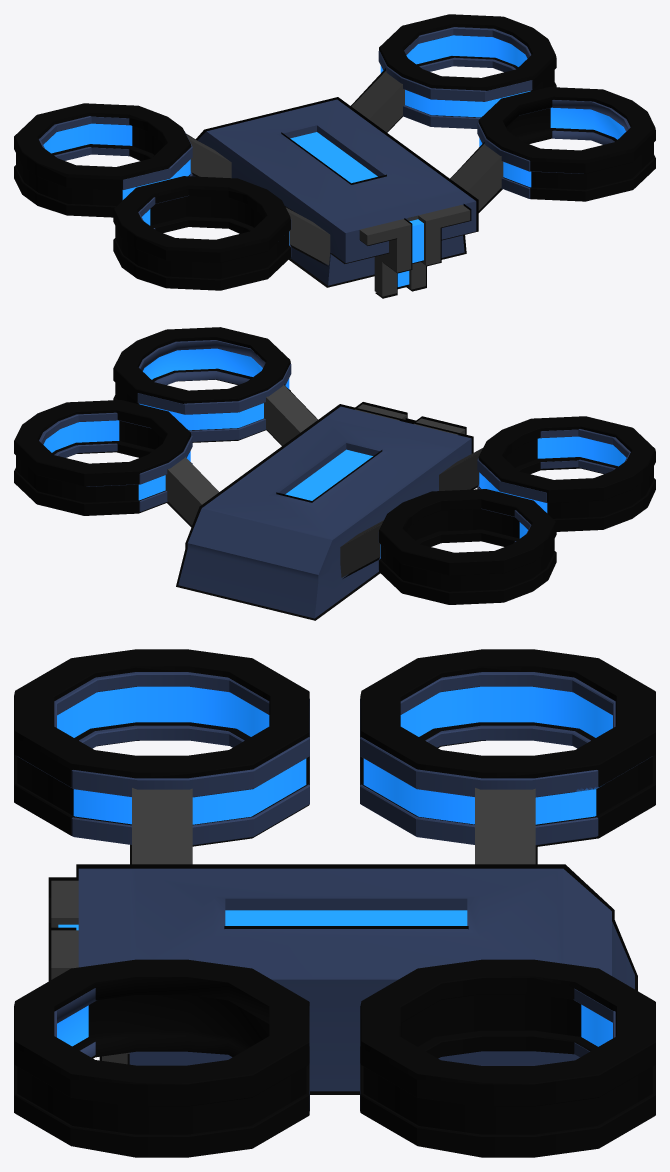
File: Dron_2.fbx
3 renders of one model, top to bottom at view 1: azimuth 30°, elevation 25°; view 2: azimuth 150°, elevation 25°; view 3: azimuth 270°, elevation 25°, orthographic. The views are drawn at different scales.
Parts seen in each view (by area): view 1: Dron_2, Dron_2_LineArt1; view 2: Dron_2, Dron_2_LineArt1; view 3: Dron_2_LineArt1, Dron_2.
Boxes of the visible parts, x1,y1,x2,y2 form: Dron_2: [39, 27, 630, 296]; Dron_2_LineArt1: [14, 14, 655, 298]; Dron_2: [39, 340, 630, 618]; Dron_2_LineArt1: [14, 327, 655, 620]; Dron_2_LineArt1: [14, 649, 655, 1157]; Dron_2: [17, 672, 652, 1110].
Size of the model in its own units: 3.51 by 0.7401 by 2.19.
